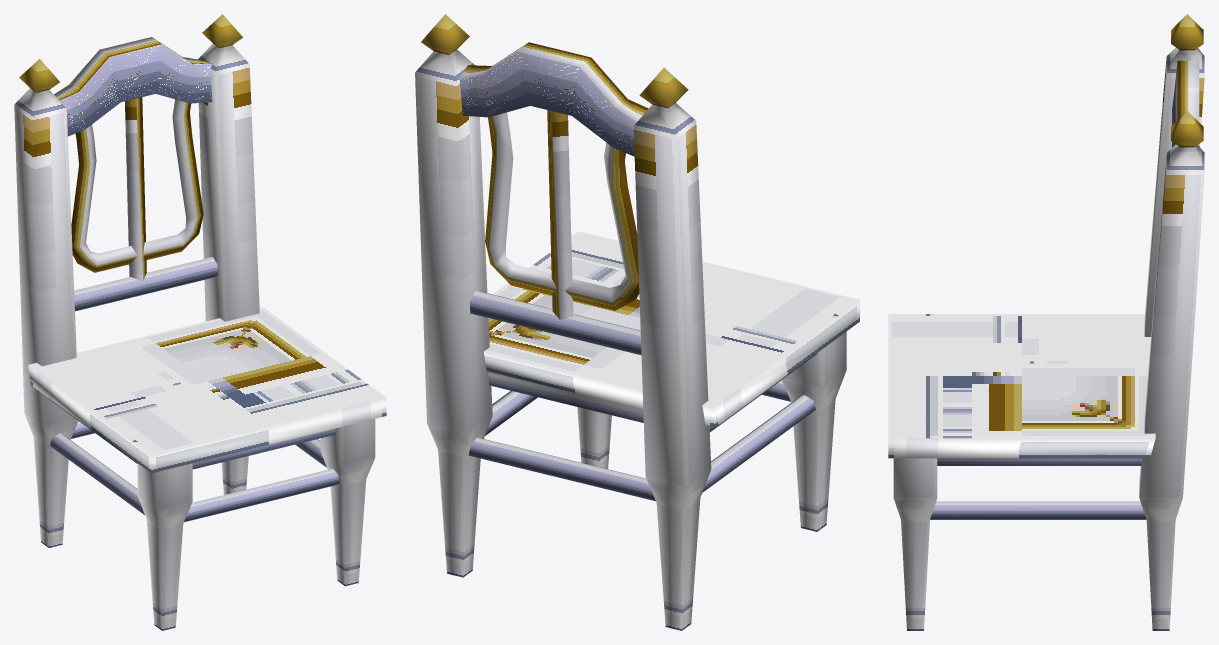
File: rmk_ryl_chairS.dae
The picture shows the model from 3 angles, left to right: view 1: azimuth 30°, elevation 25°; view 2: azimuth 150°, elevation 25°; view 3: azimuth 270°, elevation 25°; orthographic projection. The views are drawn at different scales.
Visible parts, largest first — view 1: rmk_ryl_chairS; view 2: rmk_ryl_chairS; view 3: rmk_ryl_chairS.
Boxes of the visible parts, <box> form: rmk_ryl_chairS: <box>14,14,386,630</box>; rmk_ryl_chairS: <box>415,14,859,630</box>; rmk_ryl_chairS: <box>888,14,1204,630</box>.
Size of the model in its own units: 21.6 by 41.77 by 23.2.
1 material, 1 textured.
